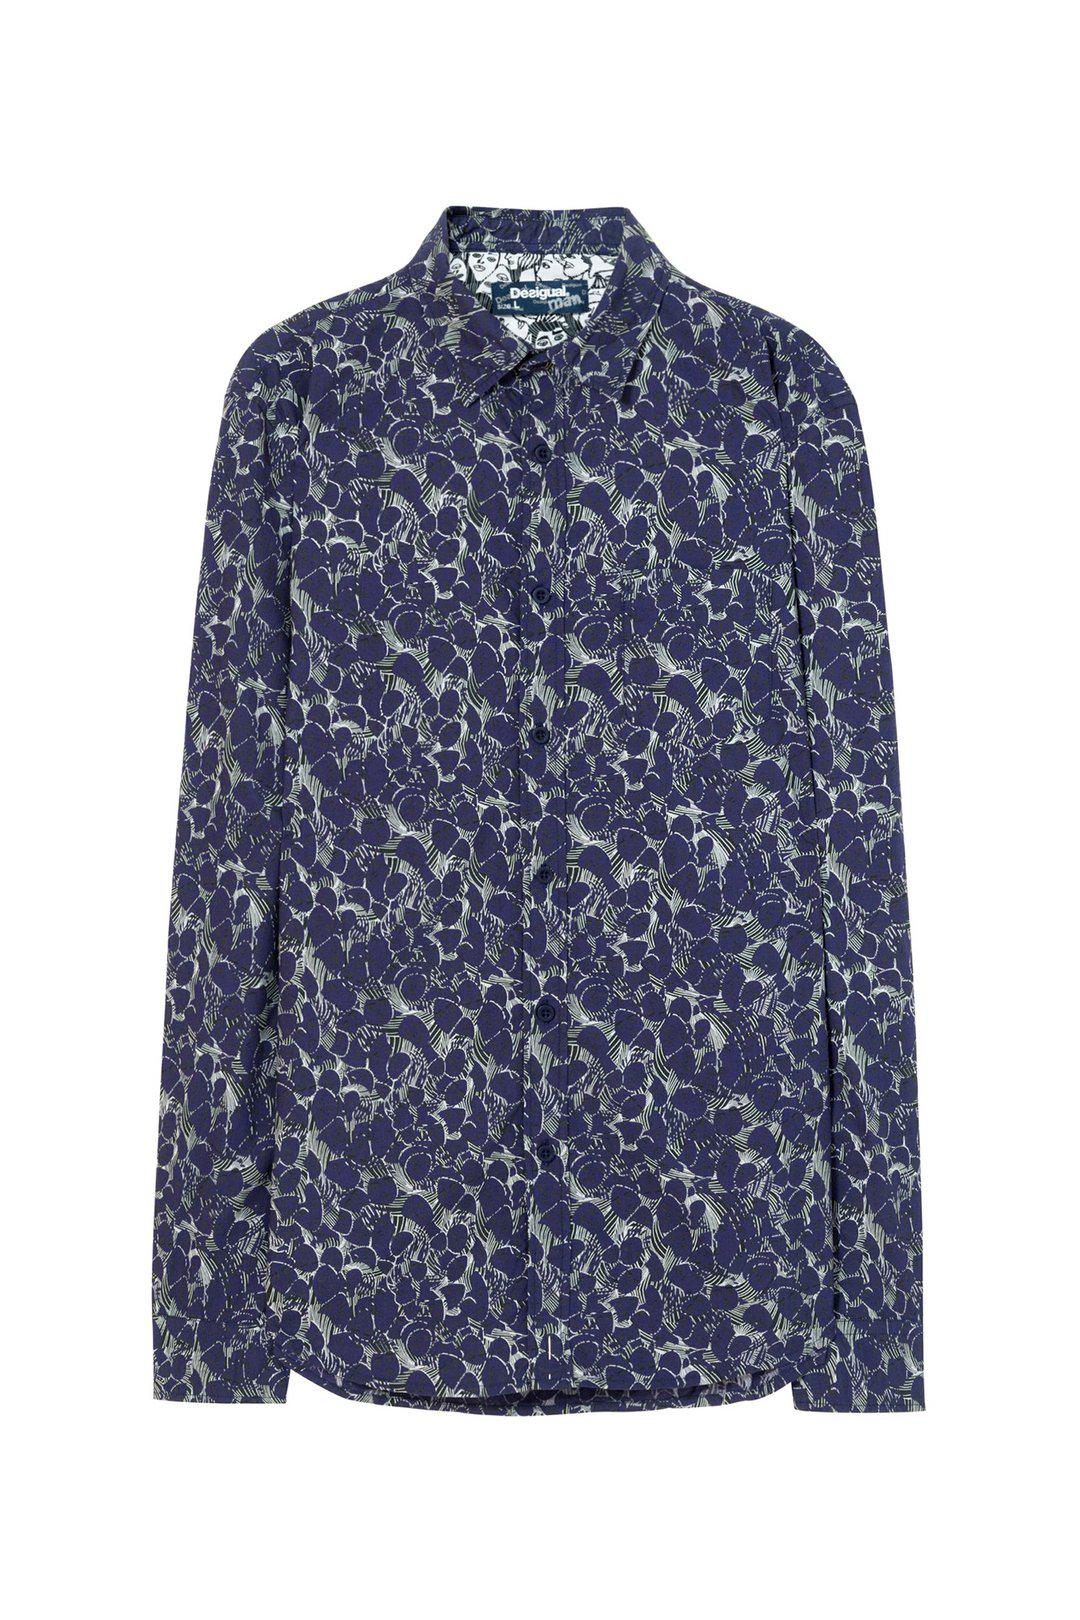teeshirt: (123, 182, 958, 1446)
